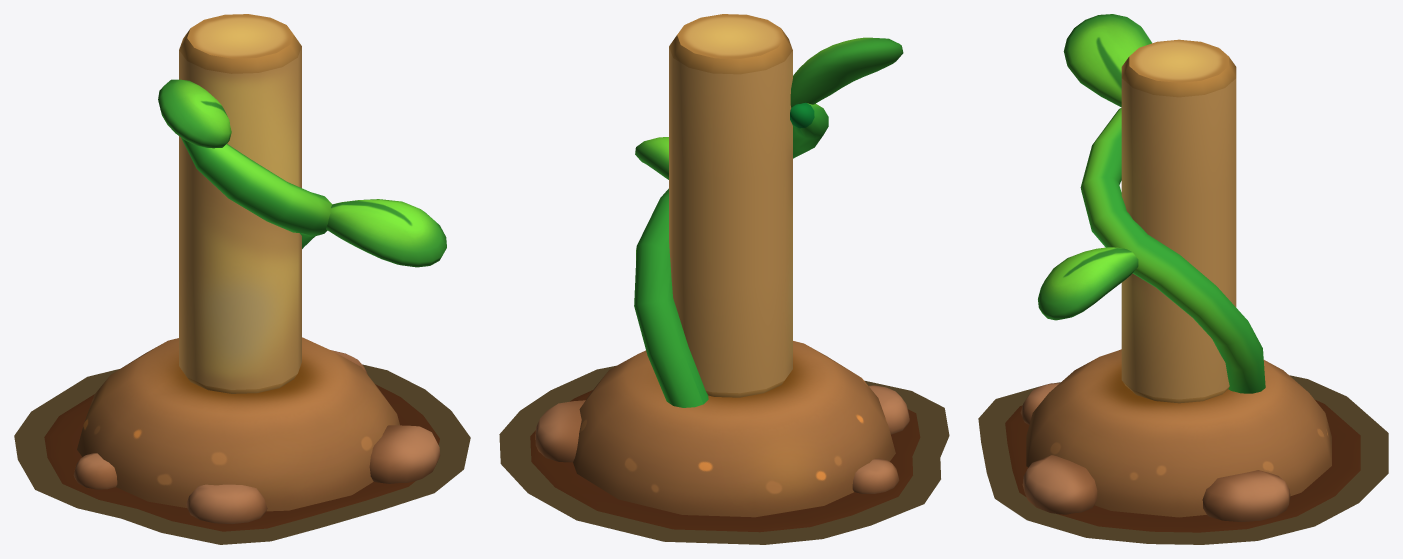
File: Tomato_L01.fbx
3 renders of one model, left to right at view 1: azimuth 30°, elevation 25°; view 2: azimuth 150°, elevation 25°; view 3: azimuth 270°, elevation 25°, orthographic. The views are drawn at different scales.
Visible parts, largest first — view 1: Tomato01_body, Tomato01SDW; view 2: Tomato01_body, Tomato01SDW; view 3: Tomato01_body, Tomato01SDW.
Boxes of the visible parts, x1,y1,x2,y2 form: Tomato01_body: (44, 14, 446, 531); Tomato01SDW: (14, 364, 470, 544); Tomato01_body: (530, 14, 920, 532); Tomato01SDW: (499, 365, 949, 544); Tomato01_body: (1005, 14, 1360, 532); Tomato01SDW: (978, 375, 1388, 544).
Size of the model in its own units: 111 by 110 by 104.
Materials: 2 (1 with a texture image).
